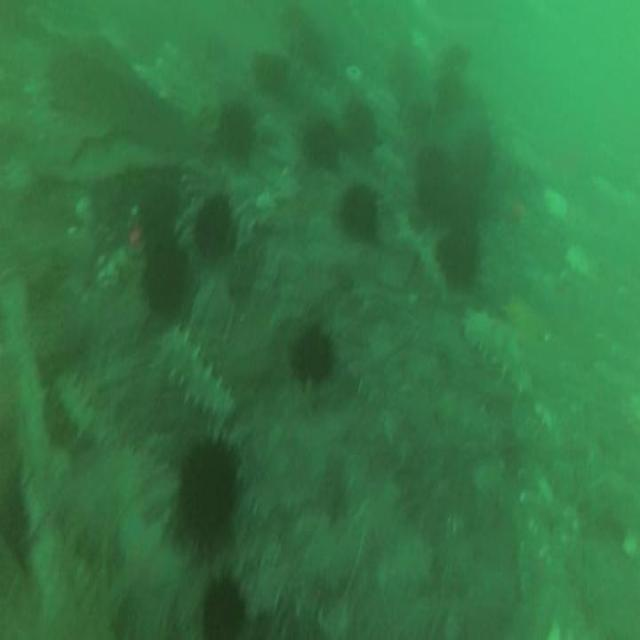holothurian: (160, 330, 236, 435), (464, 310, 532, 392), (53, 380, 122, 450)
starfish: (182, 442, 239, 539), (145, 234, 188, 310), (420, 178, 480, 230), (206, 580, 246, 640), (197, 198, 233, 259), (438, 237, 478, 291), (343, 184, 377, 244), (295, 324, 330, 382), (138, 185, 178, 234), (462, 120, 494, 177), (344, 98, 377, 153), (305, 120, 338, 174), (222, 104, 252, 160), (256, 49, 290, 96), (414, 150, 454, 183)
